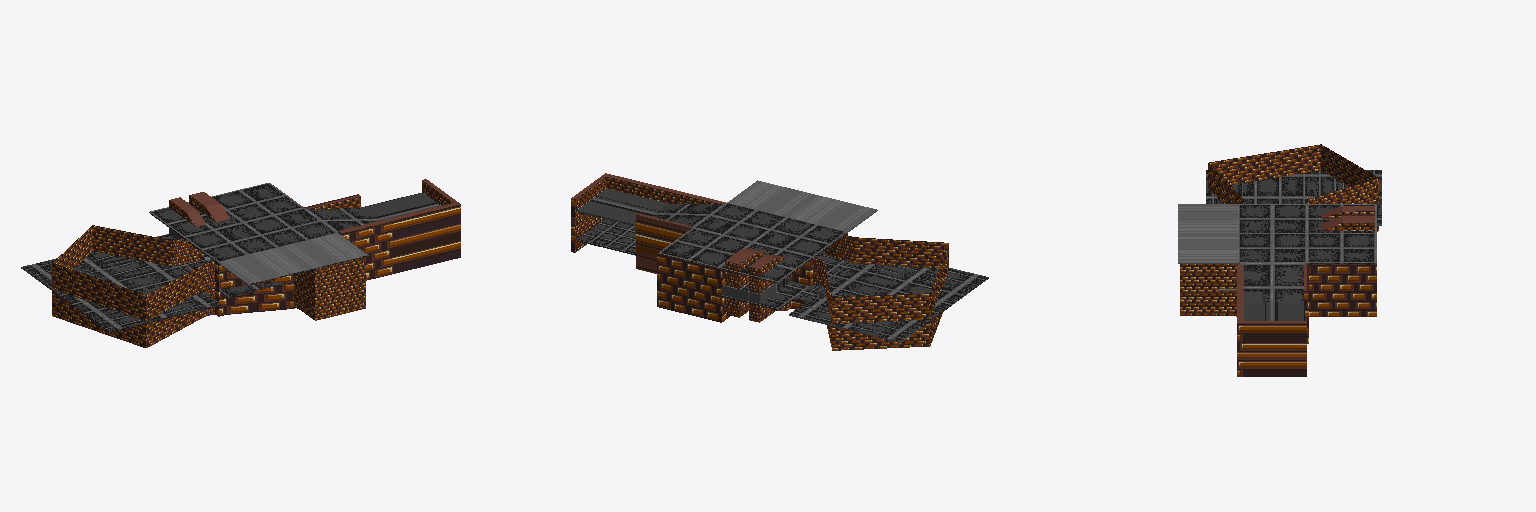
3 renders of one model, left to right at view 1: azimuth 30°, elevation 25°; view 2: azimuth 150°, elevation 25°; view 3: azimuth 270°, elevation 25°, orthographic.
Parts seen in each view (by area): view 1: Cube_Cube.005, Cube.001_Cube.006, Cube.004_Cube.001; view 2: Cube_Cube.005, Cube.001_Cube.006, Cube.004_Cube.001; view 3: Cube_Cube.005, Cube.001_Cube.006, Cube.004_Cube.001.
Boxes of the visible parts, box(x1,y1,x2,y2) form: Cube_Cube.005: box(52, 179, 460, 347); Cube.001_Cube.006: box(149, 183, 440, 285); Cube.004_Cube.001: box(21, 228, 294, 332); Cube_Cube.005: box(571, 173, 948, 350); Cube.001_Cube.006: box(576, 180, 877, 283); Cube.004_Cube.001: box(577, 219, 988, 342); Cube_Cube.005: box(1180, 144, 1378, 376); Cube.001_Cube.006: box(1178, 204, 1376, 320); Cube.004_Cube.001: box(1206, 170, 1381, 290).
Bounding box in the file's own units: 112 × 17.91 × 53.65.
Materials: 1 (1 with a texture image).